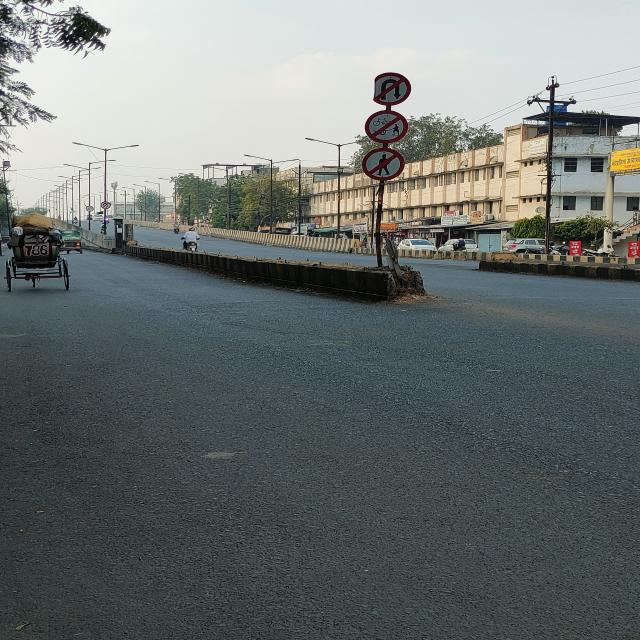cycle_prohibited: (365, 110, 409, 145)
